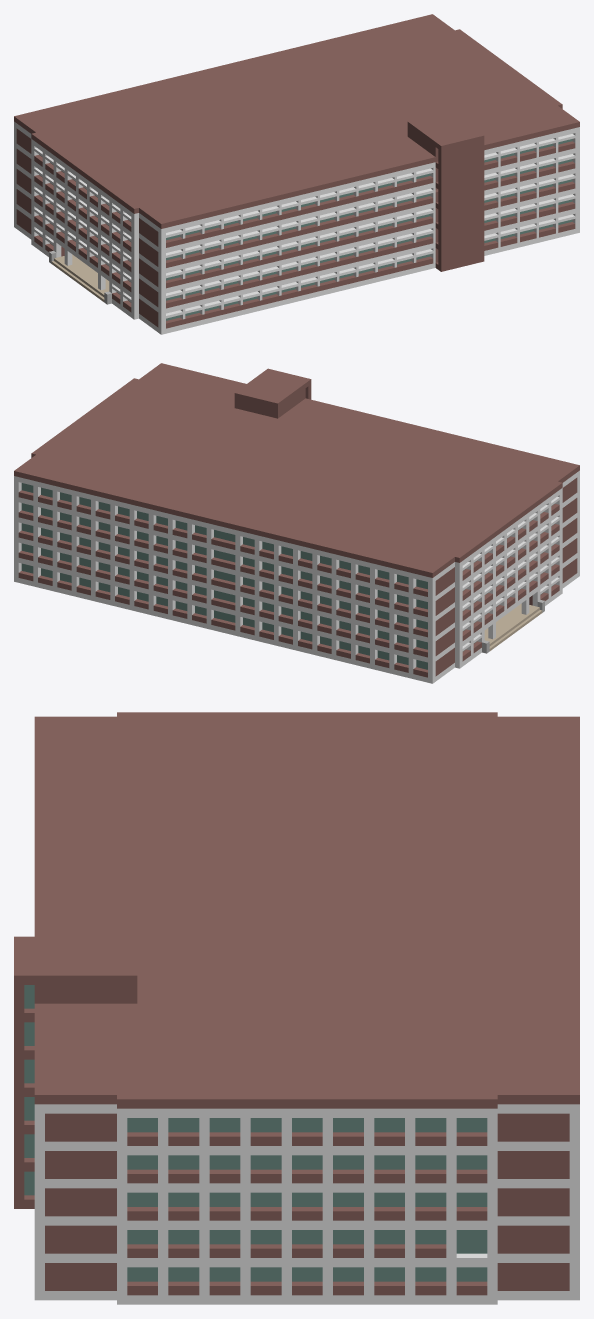
File: gonghak.obj
3 views of the same model, one above another, from view 1: azimuth 30°, elevation 25°; view 2: azimuth 150°, elevation 25°; view 3: azimuth 270°, elevation 25° (orthographic). The views are drawn at different scales.
Bounding box in the file's own units: 18 × 5 × 11.
Materials: 1 (1 with a texture image).
